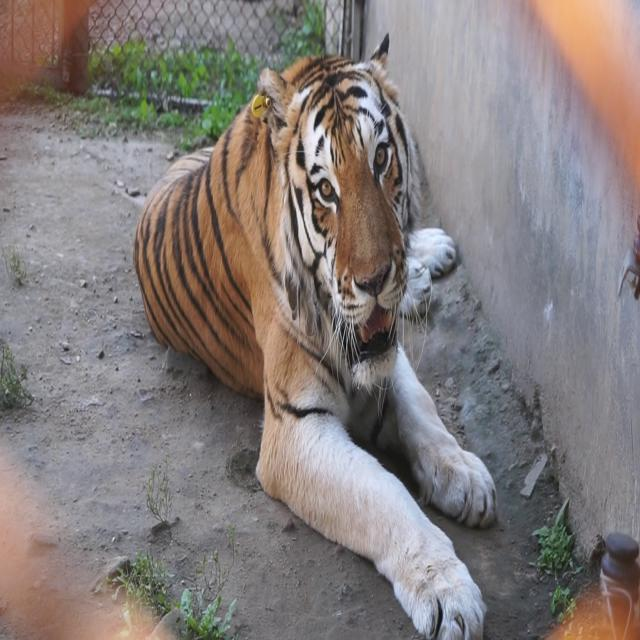Tiger: (114, 13, 501, 639)
